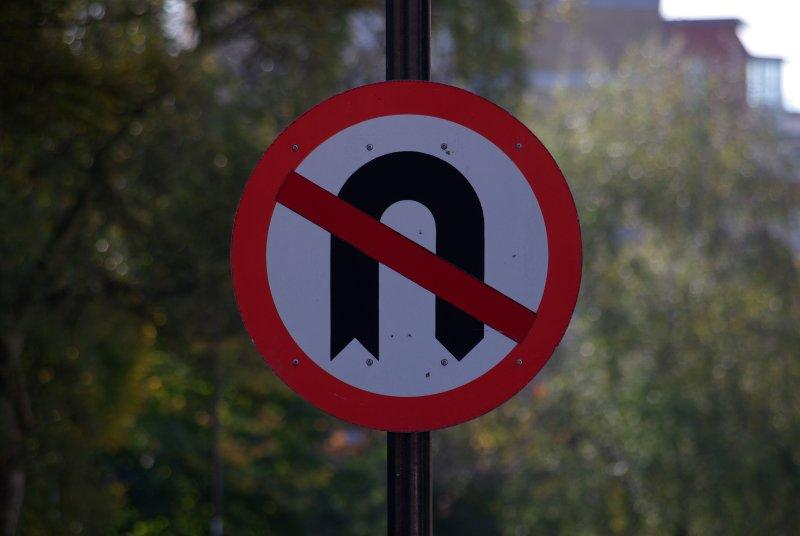no_u_turn: (230, 77, 581, 431)
